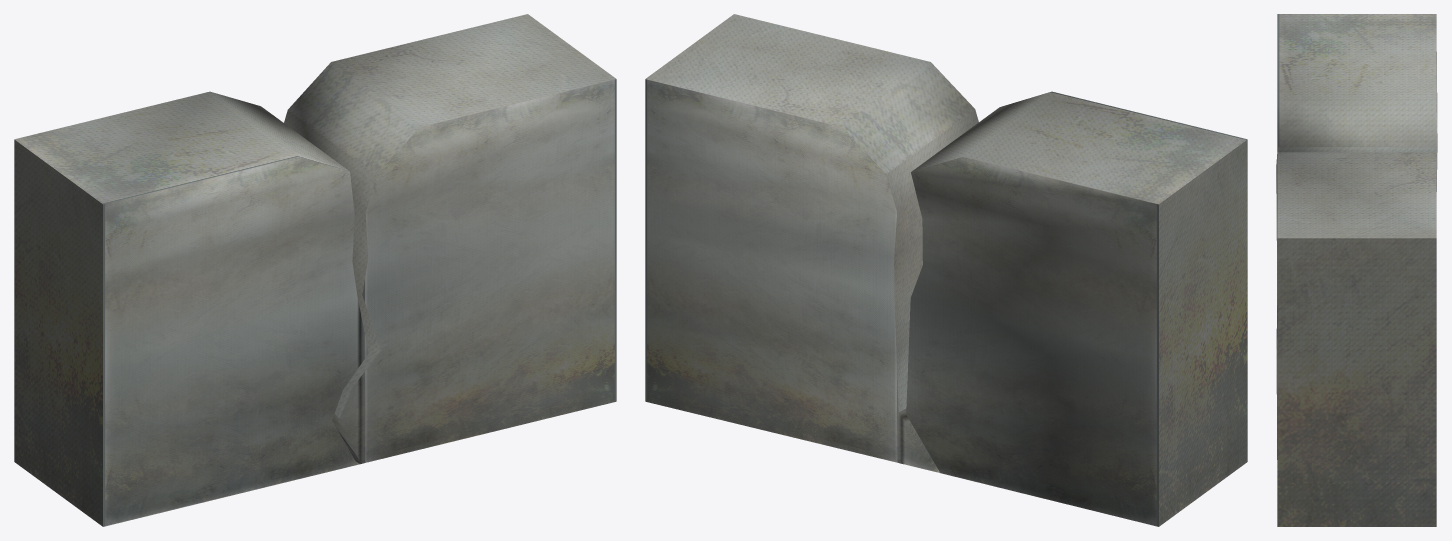
Rendered from CrackedWall2.fbx.
3 views of the same model, side by side, from view 1: azimuth 30°, elevation 25°; view 2: azimuth 150°, elevation 25°; view 3: azimuth 270°, elevation 25° (orthographic). The views are drawn at different scales.
Parts seen in each view (by area): view 1: pCube1; view 2: pCube1; view 3: pCube1.
Boxes of the visible parts, box(x1,y1,x2,y2) form: pCube1: box(14, 14, 616, 526); pCube1: box(645, 14, 1247, 526); pCube1: box(1276, 14, 1437, 526).
Bounding box in the file's own units: 40 × 24 × 12.15.
